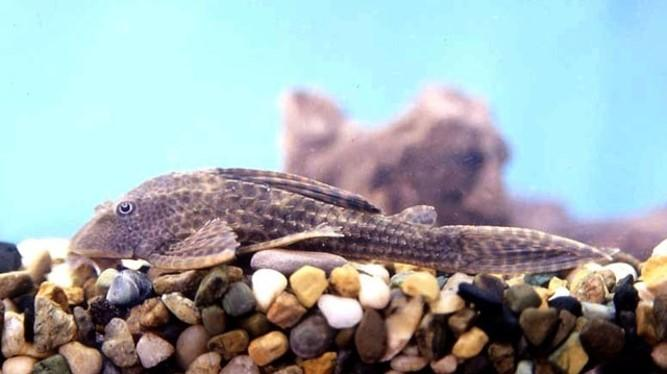Janitor Fish: (71, 160, 621, 285)
